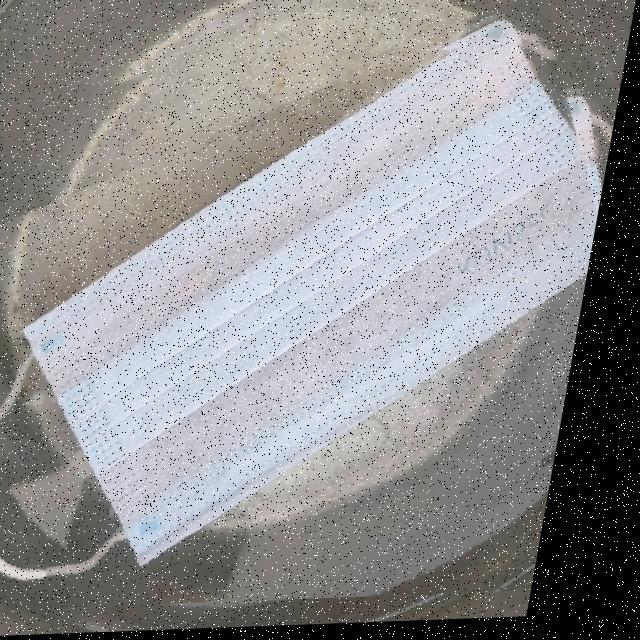litter: (0, 37, 632, 614)
